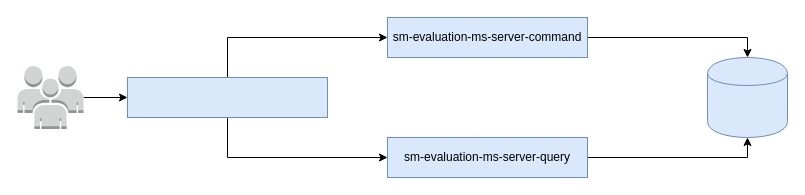
Image size: 805x195. Some labels were removed from this diagram. Here are the shapes that lost their labels. From the top down, the centre of each, then its label:
the point at 227,97: sm-evaluation-ms-frontend
the point at 747,97: MongoDB
